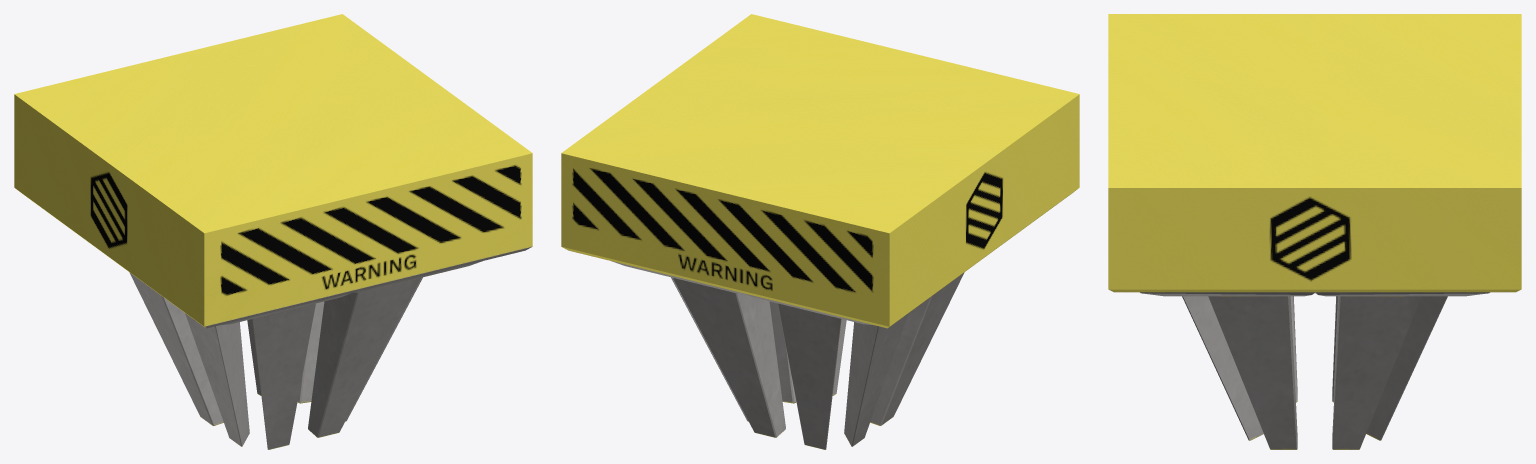
Rendered from LaserCutterWithTextures.fbx.
3 views of the same model, side by side, from view 1: azimuth 30°, elevation 25°; view 2: azimuth 150°, elevation 25°; view 3: azimuth 270°, elevation 25° (orthographic). The views are drawn at different scales.
Visible parts, largest first — view 1: Plane.001; view 2: Plane.001; view 3: Plane.001.
Part boxes in pixels (x1,y1,x2,y2): Plane.001: (14,14,532,449); Plane.001: (561,14,1079,449); Plane.001: (1108,14,1521,449).
Size of the model in its own units: 140 by 121 by 140.
